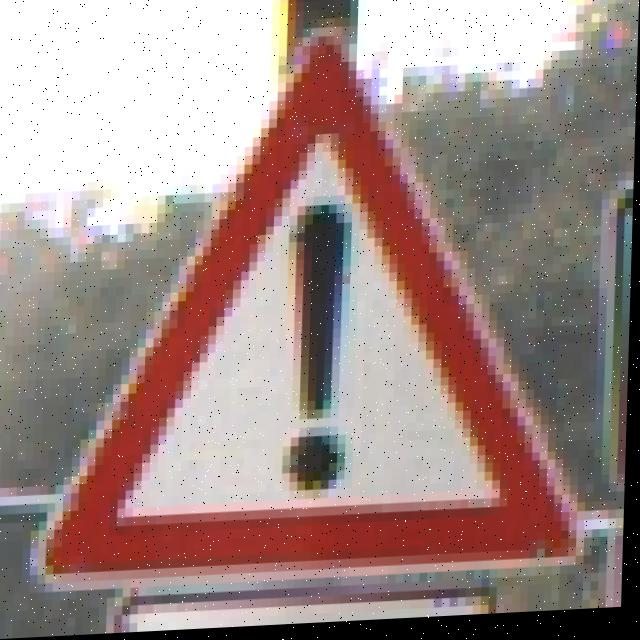warning: (69, 55, 574, 583)
